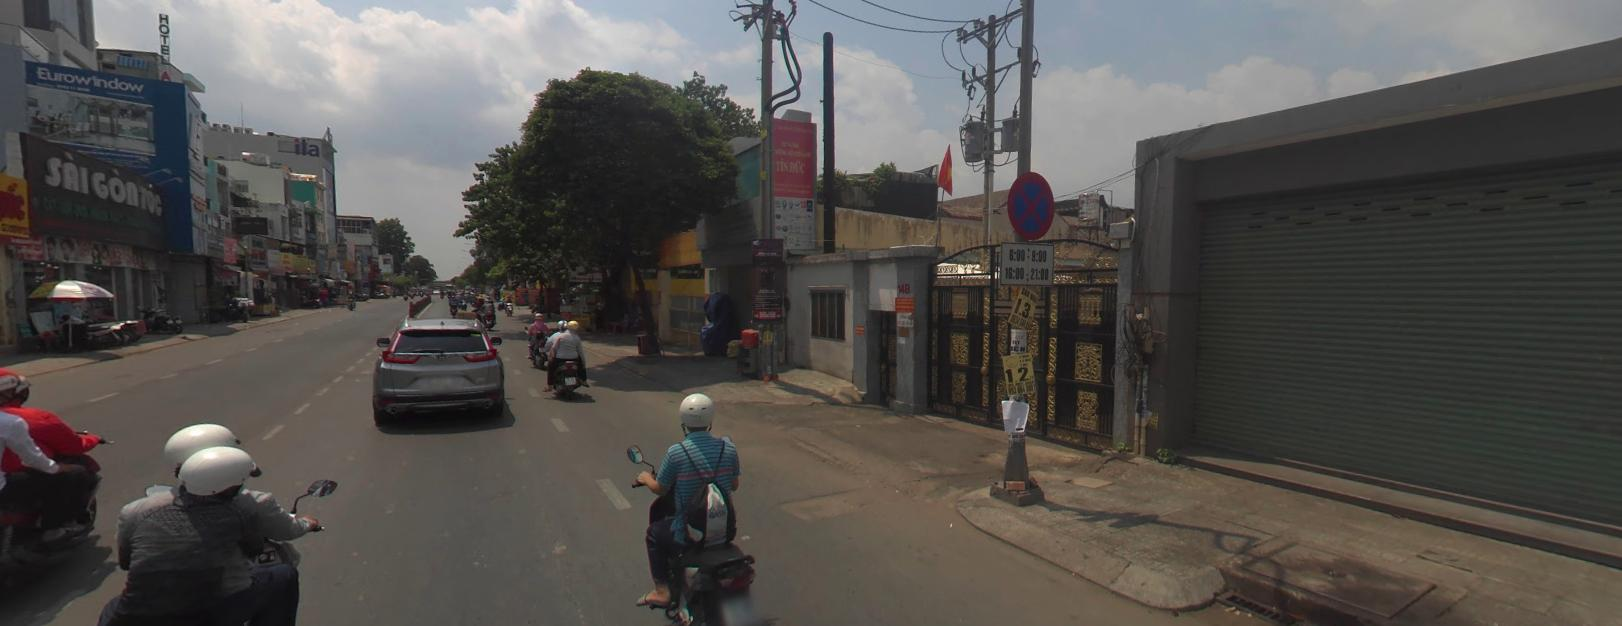Cam dung va do: (1007, 168, 1054, 239)
